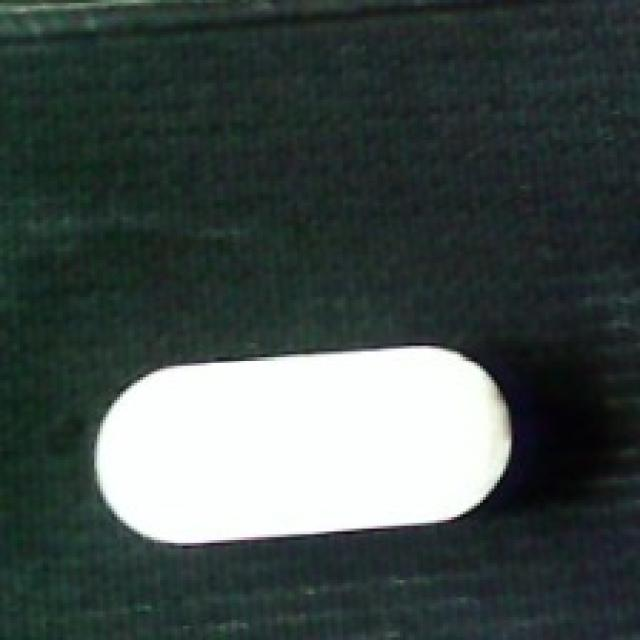no-defect: (94, 346, 514, 543)
